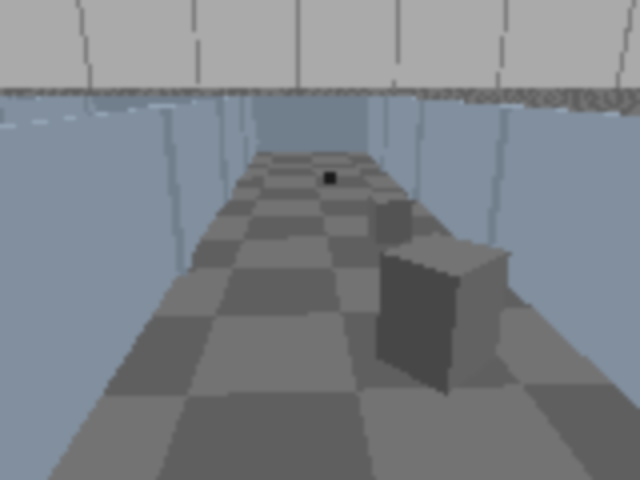obstacle: (367, 193, 414, 243)
